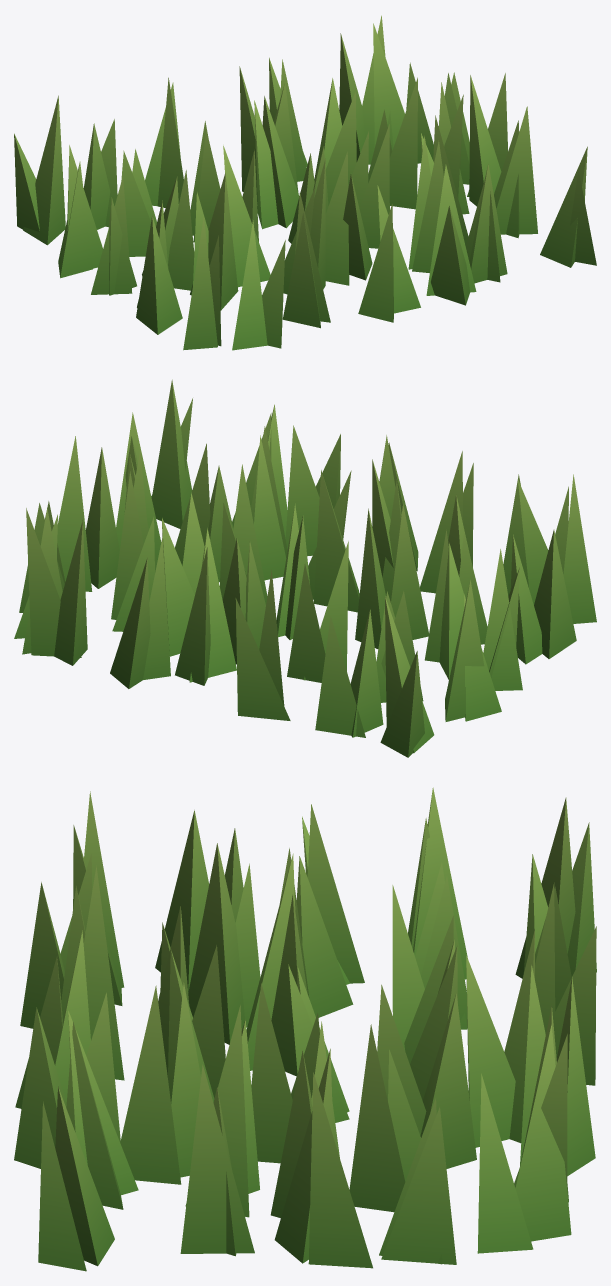
Rendered from tall_grass_4x3.glb.
3 renders of one model, top to bottom at view 1: azimuth 30°, elevation 25°; view 2: azimuth 150°, elevation 25°; view 3: azimuth 270°, elevation 25°, orthographic. The views are drawn at different scales.
Visible parts, largest first — view 1: tall_grass_4x3; view 2: tall_grass_4x3; view 3: tall_grass_4x3.
Boxes of the visible parts, x1,y1,x2,y2 form: tall_grass_4x3: (14, 15, 596, 350); tall_grass_4x3: (14, 379, 596, 757); tall_grass_4x3: (14, 787, 596, 1271).
Size of the model in its own units: 4.02 by 1.19 by 3.15.
1 material, 1 textured.
